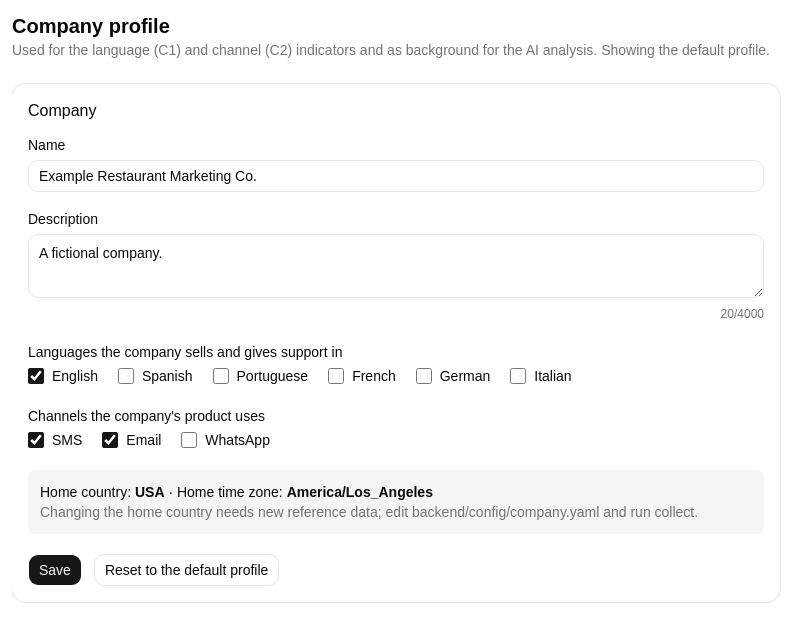
saving sends the edited fields and shows "Saved"
The image size is (798, 620).
Replace the text in the field labelled "Name" with "Real Co." at (396, 176), box [28,160,764,192]
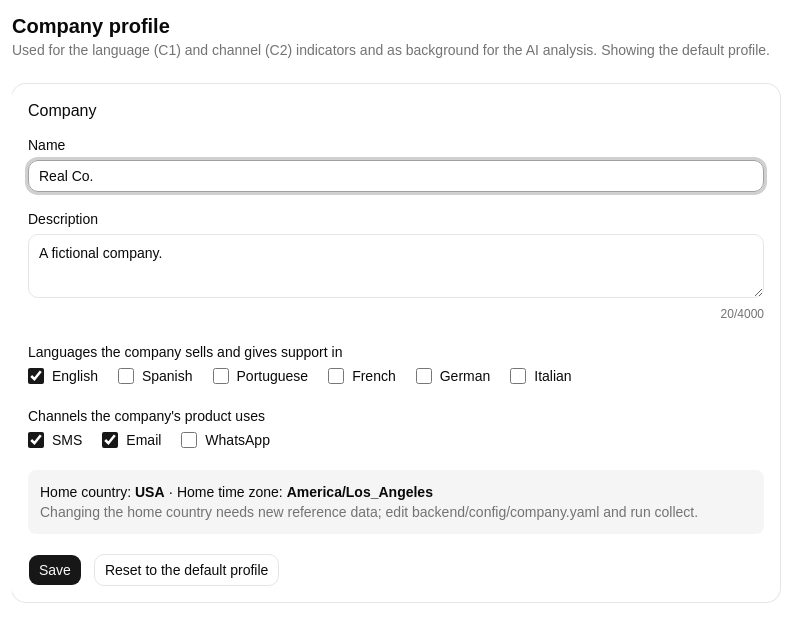
Click the checkbox labelled "Spanish" at (126, 376), box [118,368,134,384]
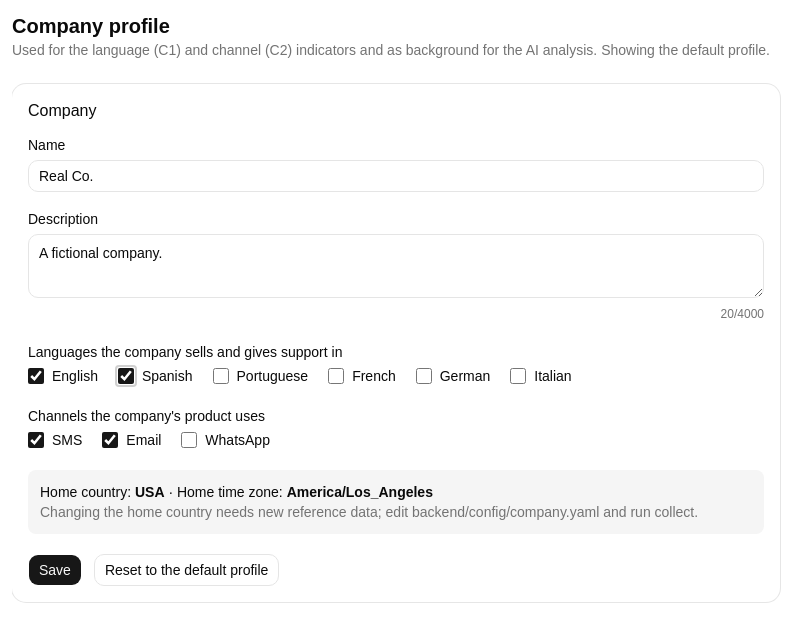
Click the button "Save" at (55, 570), box [28,554,82,586]
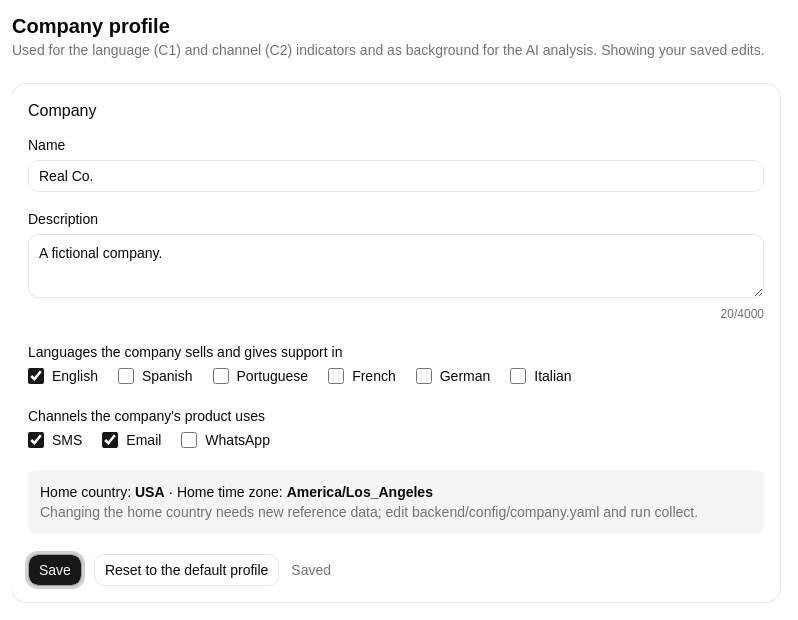
Expected: the text "Saved" is shown, [291,560,331,580]
